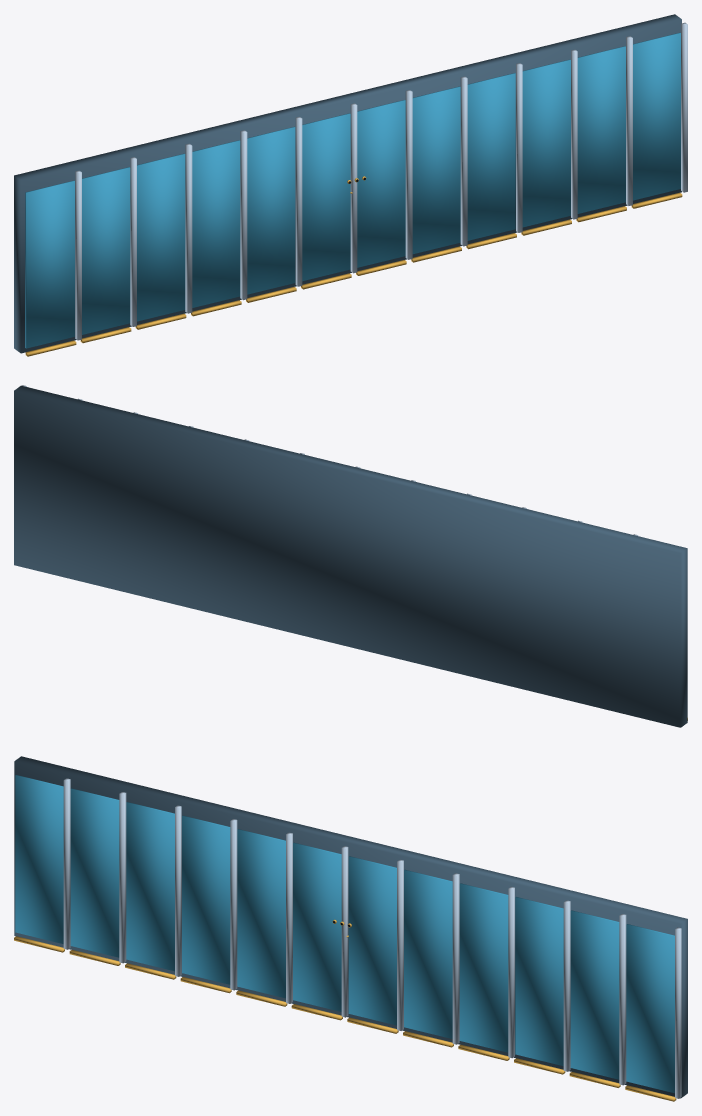
The model's file is 01_L93_PanoramicObservationWindow.fbx.
3 renders of one model, top to bottom at view 1: azimuth 30°, elevation 25°; view 2: azimuth 150°, elevation 25°; view 3: azimuth 330°, elevation 25°, orthographic.
Visible parts, largest first — view 1: L92_PanoramicObservationWindow_Part_0001, L92_PanoramicObservationWindow_Part_0000, L92_PanoramicObservationWindow_Part_0002, L92_PanoramicObservationWindow_Part_0003; view 2: L92_PanoramicObservationWindow_Part_0000; view 3: L92_PanoramicObservationWindow_Part_0001, L92_PanoramicObservationWindow_Part_0000, L92_PanoramicObservationWindow_Part_0002, L92_PanoramicObservationWindow_Part_0003.
Boxes of the visible parts, bbox=[...] form: L92_PanoramicObservationWindow_Part_0001: bbox=[25, 32, 680, 348]; L92_PanoramicObservationWindow_Part_0000: bbox=[14, 14, 681, 353]; L92_PanoramicObservationWindow_Part_0002: bbox=[75, 22, 687, 340]; L92_PanoramicObservationWindow_Part_0003: bbox=[25, 192, 682, 356]; L92_PanoramicObservationWindow_Part_0000: bbox=[14, 385, 687, 727]; L92_PanoramicObservationWindow_Part_0001: bbox=[15, 775, 674, 1093]; L92_PanoramicObservationWindow_Part_0000: bbox=[14, 756, 687, 1098]; L92_PanoramicObservationWindow_Part_0002: bbox=[63, 778, 681, 1098]; L92_PanoramicObservationWindow_Part_0003: bbox=[14, 936, 676, 1101].
Bounding box in the file's own units: 2408 × 605 × 81.2.
